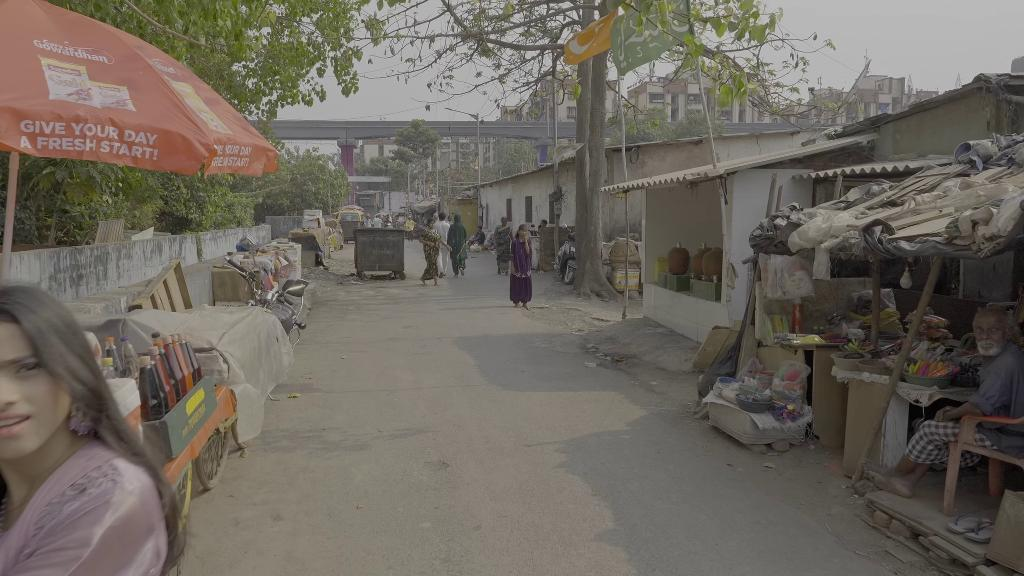dustbin: (354, 226, 410, 287)
